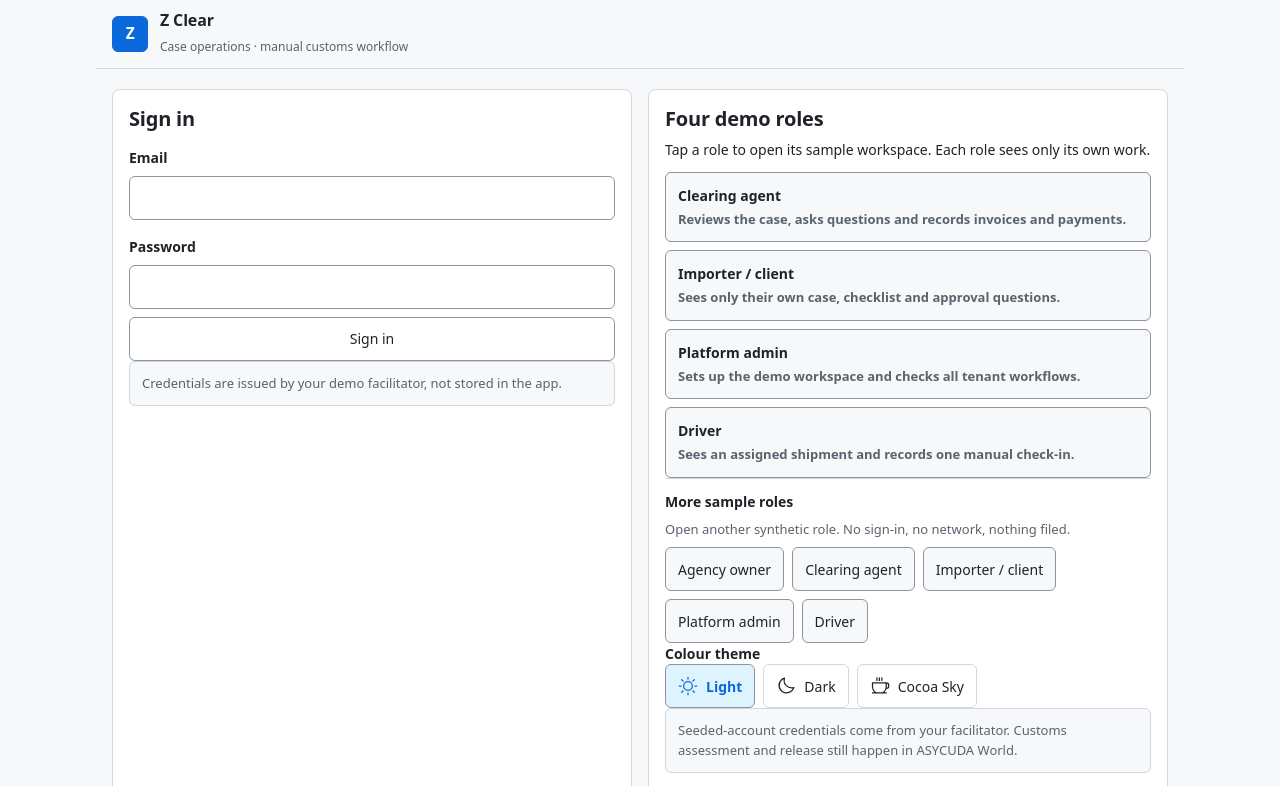
Test case: App › opens a fully usable sample workspace without credentials or network calls
Click the button with test id "sample-login-agent_staff" at (853, 569), box 792,547 -> 915,591
(page scrolled)
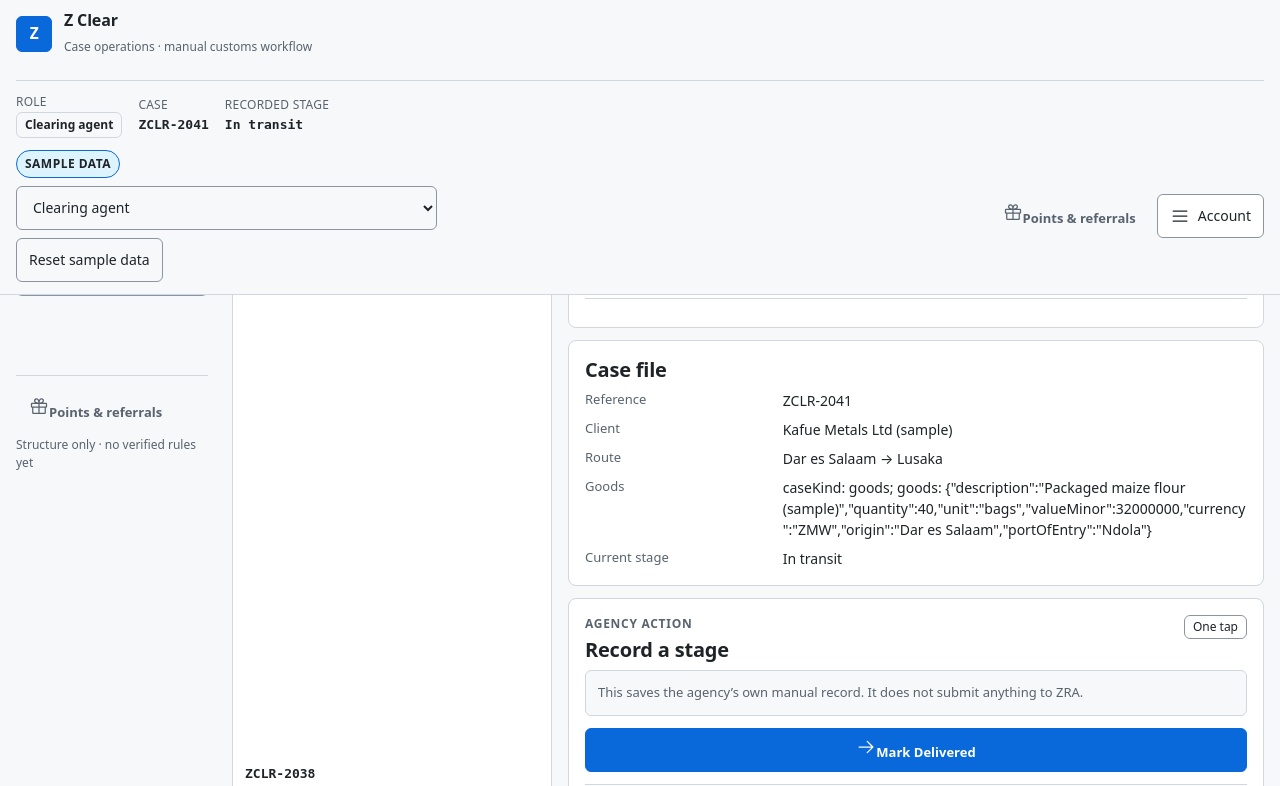
Expected: the text with test id "role-badge" reads "Clearing agent", 25,116 -> 113,133
Result: the element with test id "sample-toolbar" shows "Sample data" at 25,155 -> 111,172
Result: the text with test id "case-reference" reads "ZCLR-2041" at 783,391 -> 852,410
